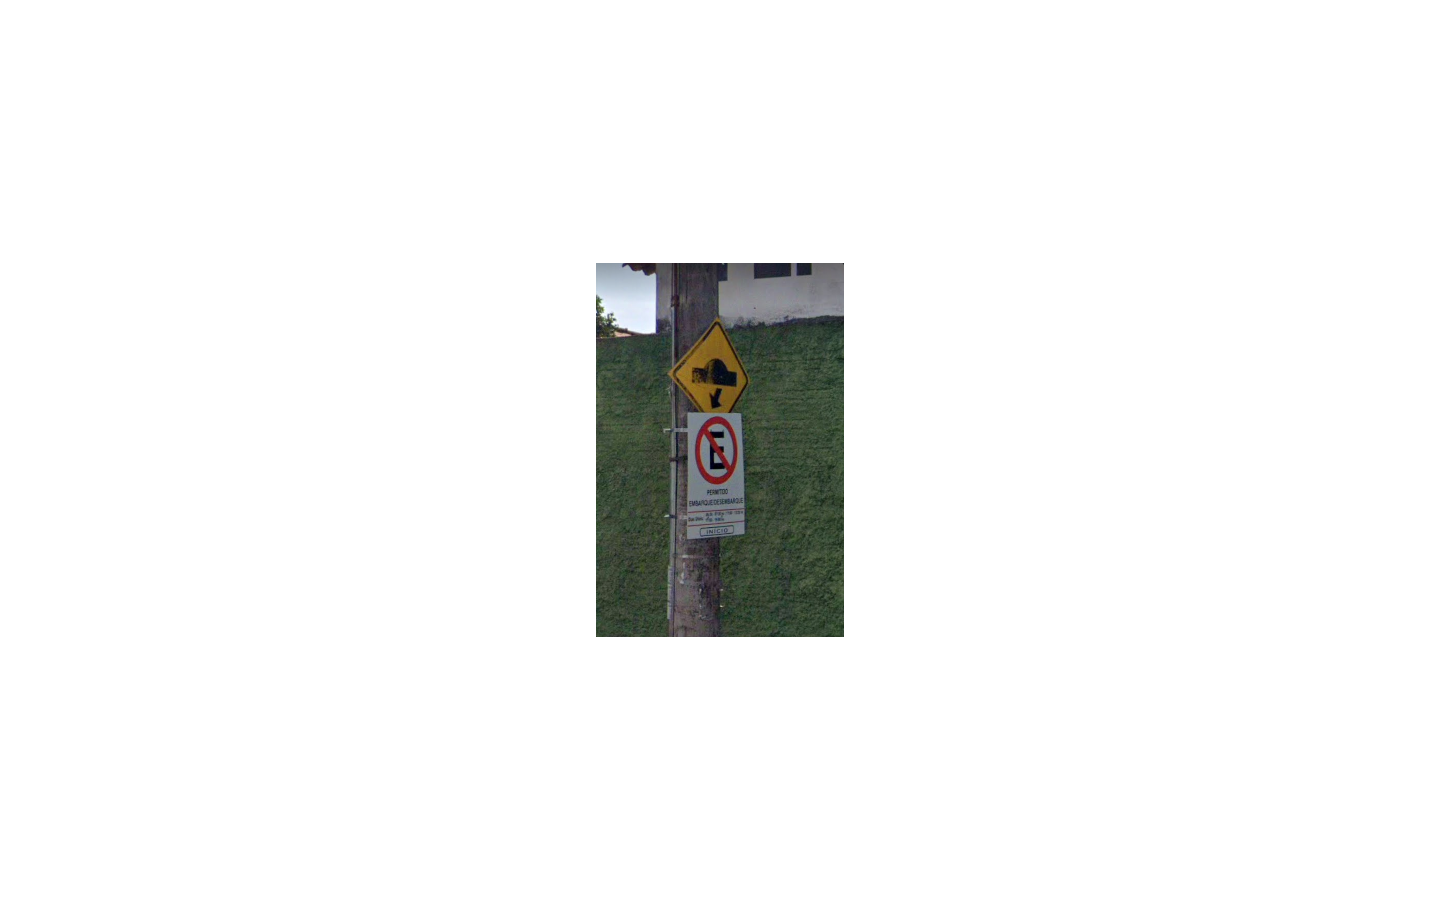lomb: (666, 317, 752, 413)
